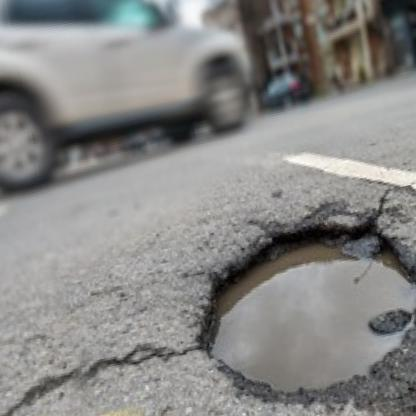pothole: (180, 197, 416, 414)
